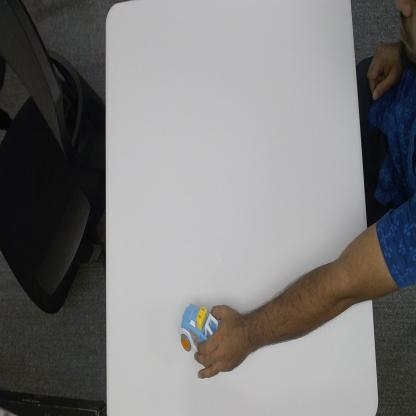Arm: (248, 232, 375, 351)
Car: (179, 302, 220, 352)
Hand: (193, 303, 247, 381)
